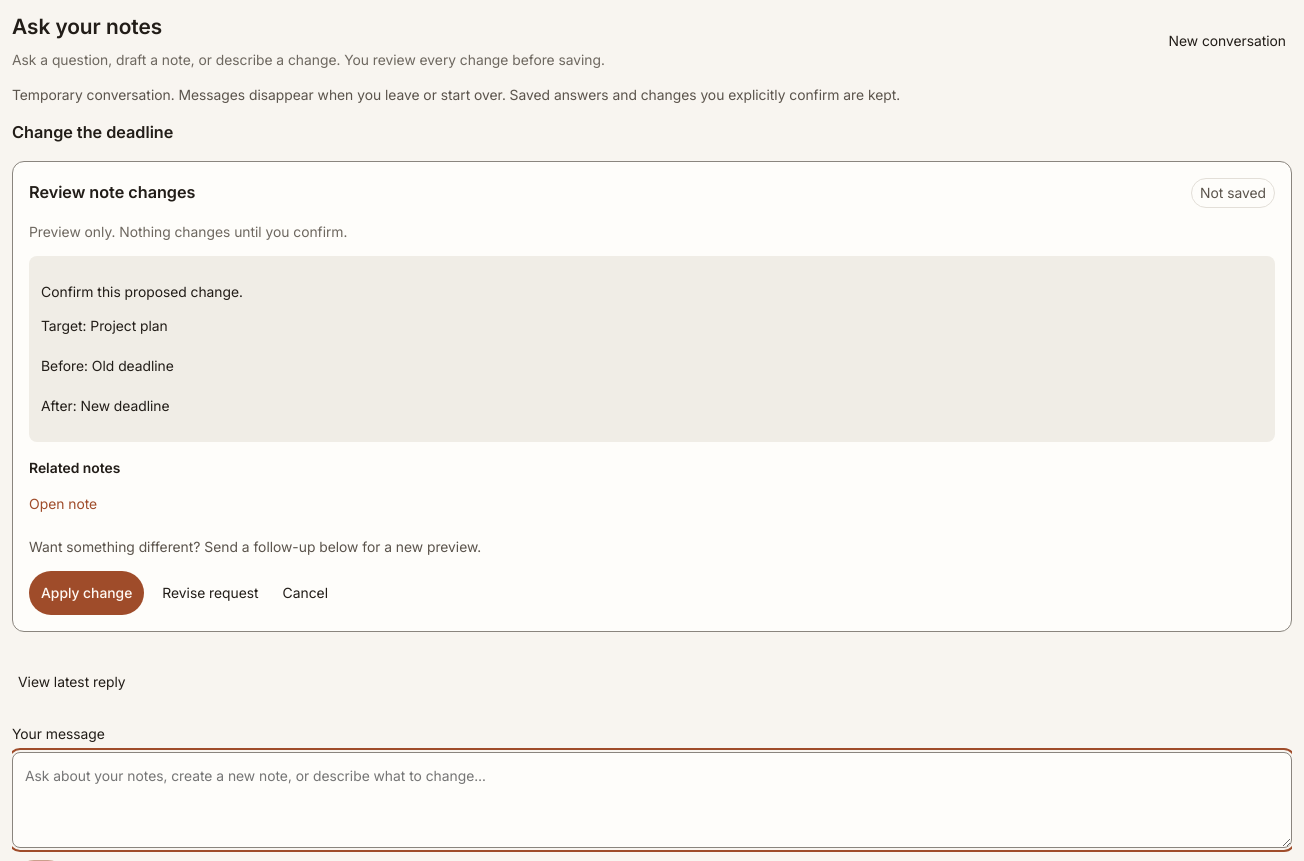
Test case: shows a stale true action refusal honestly even if the response contains a note link
Click the button "Apply change". click: (87, 593)
box: [29, 571, 144, 615]
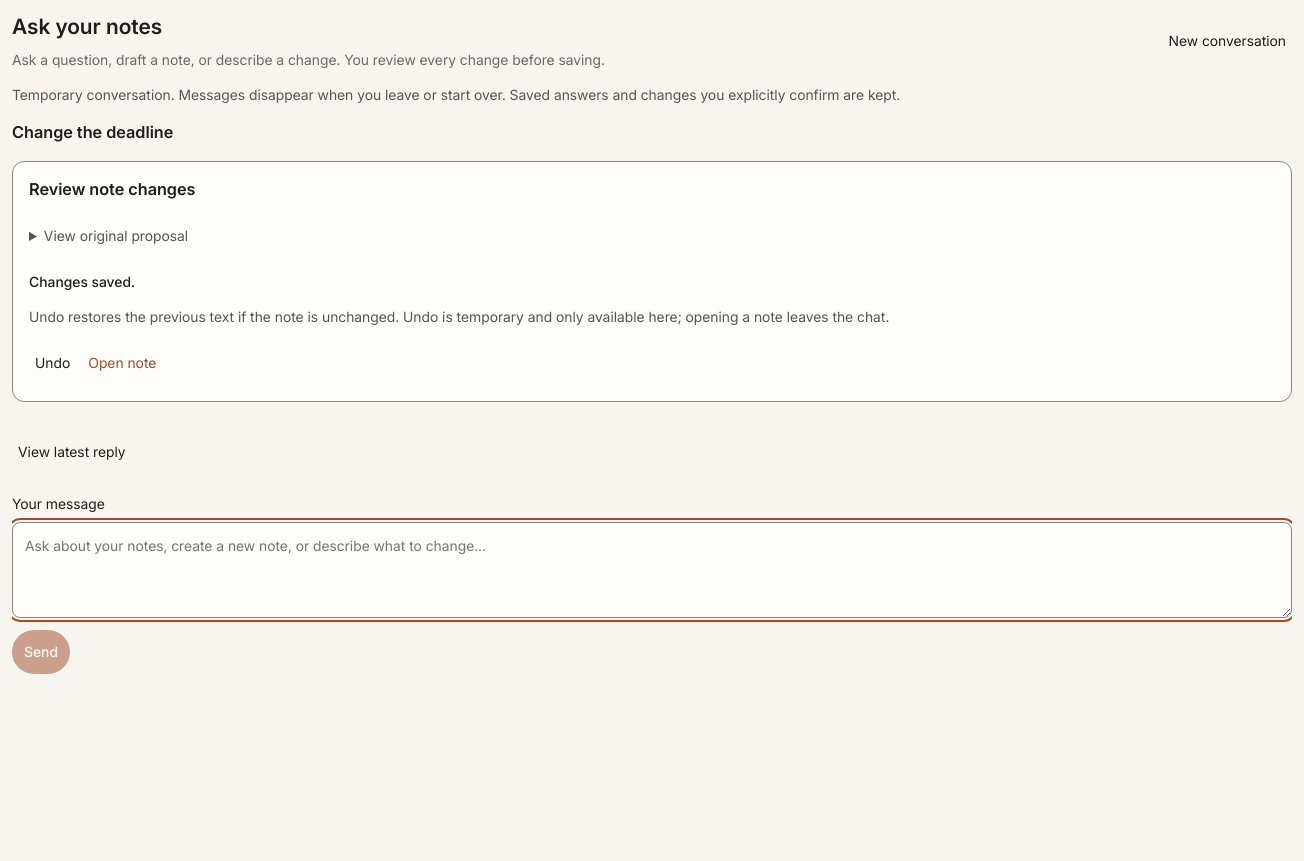
Result: the button "Undo" is shown
Click the button "Undo". click: (53, 362)
box: [29, 340, 76, 384]
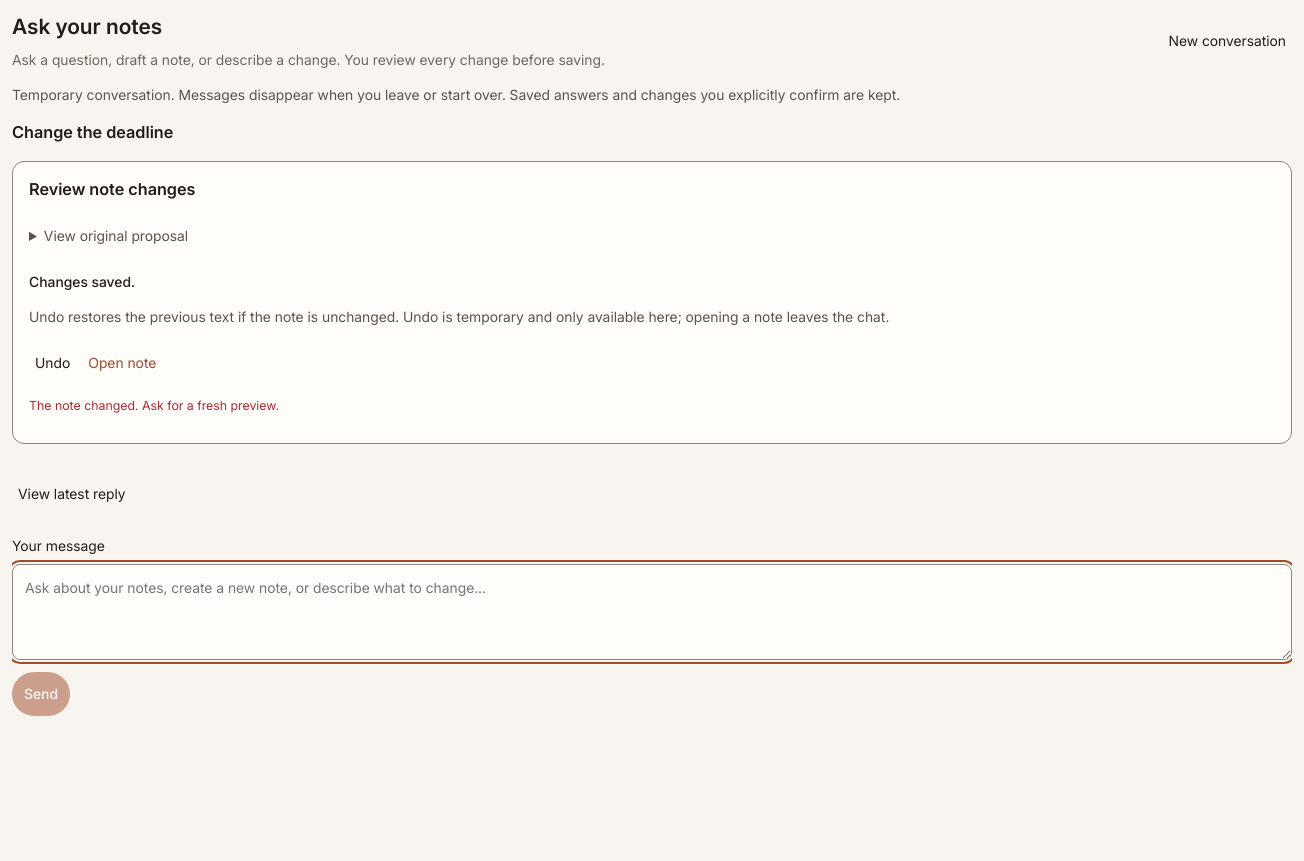
Result: the message "The note changed. Ask for a fresh preview." is shown at [29, 398, 279, 413]
